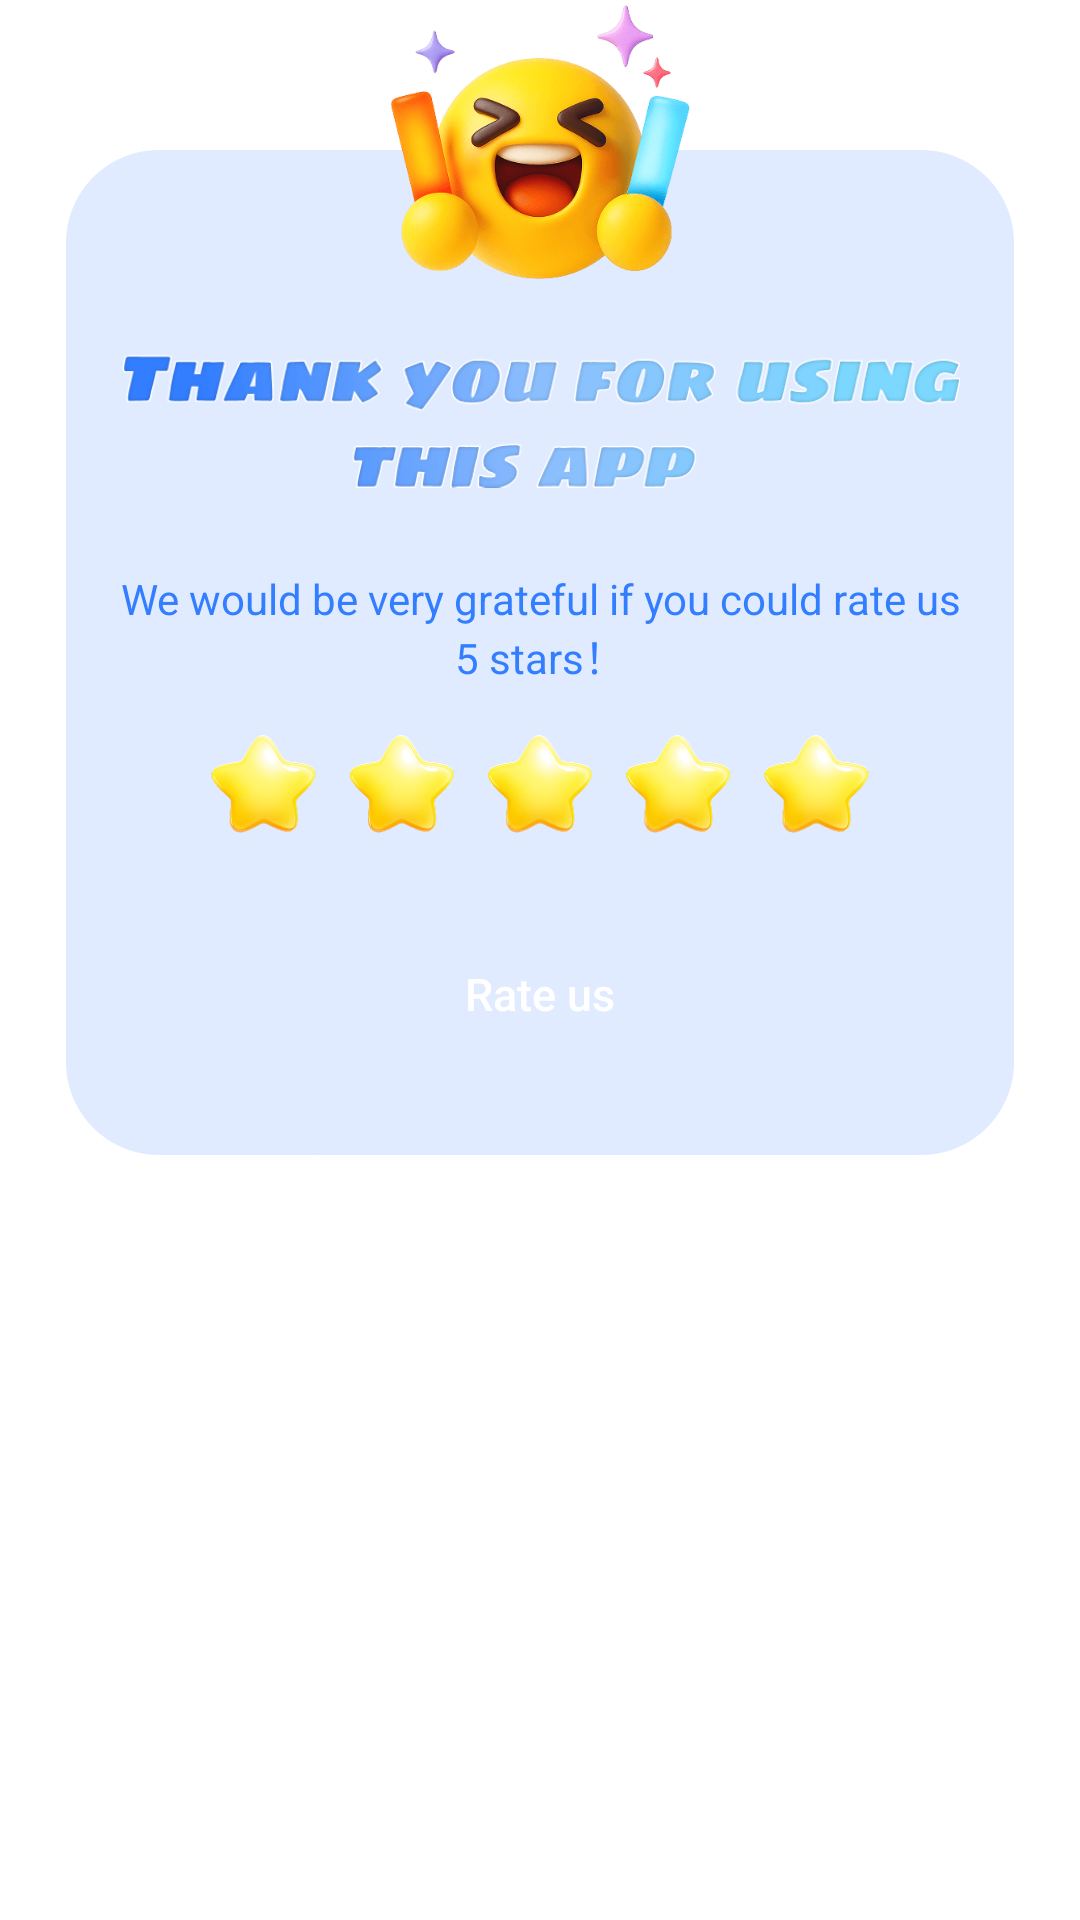

Icons on this 1080w x 1920h Android screen, each with the point to tap as (x,y):
smiling: (540,139)
